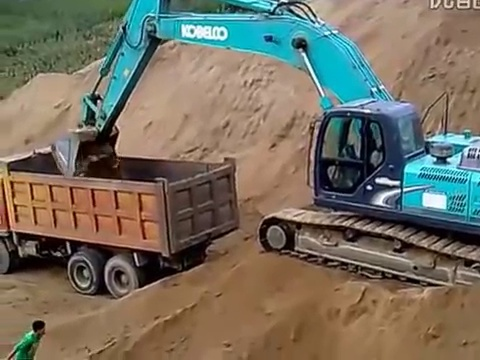excavator: (52, 1, 480, 287)
person: (6, 319, 46, 360)
truck: (1, 148, 241, 296)
